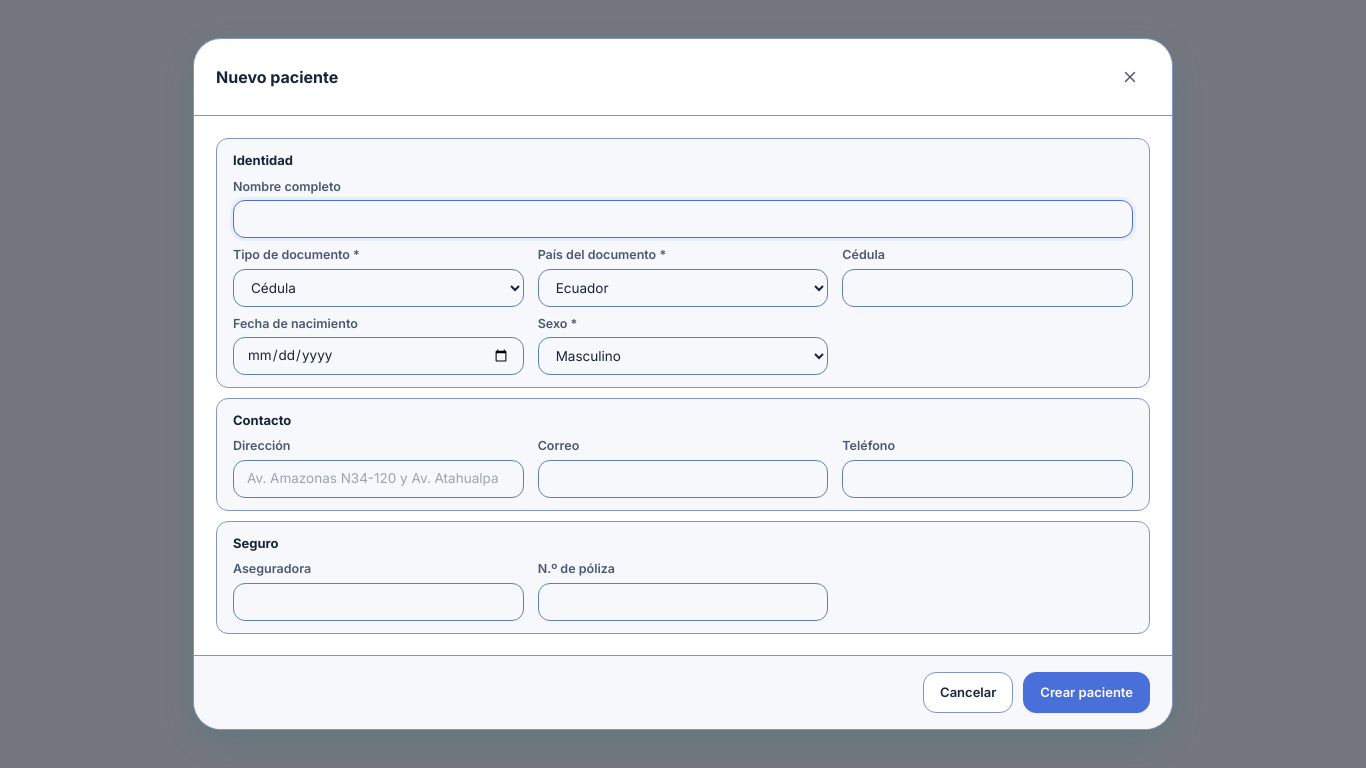
Scenario: NewPatientModal — never looks frozen › explains a timeout instead of staying on «Guardando…»
Type "Ana Torres" into the field labelled "Nombre completo".
click(683, 219); type("Ana Torres")  # box [233, 200, 1133, 238]
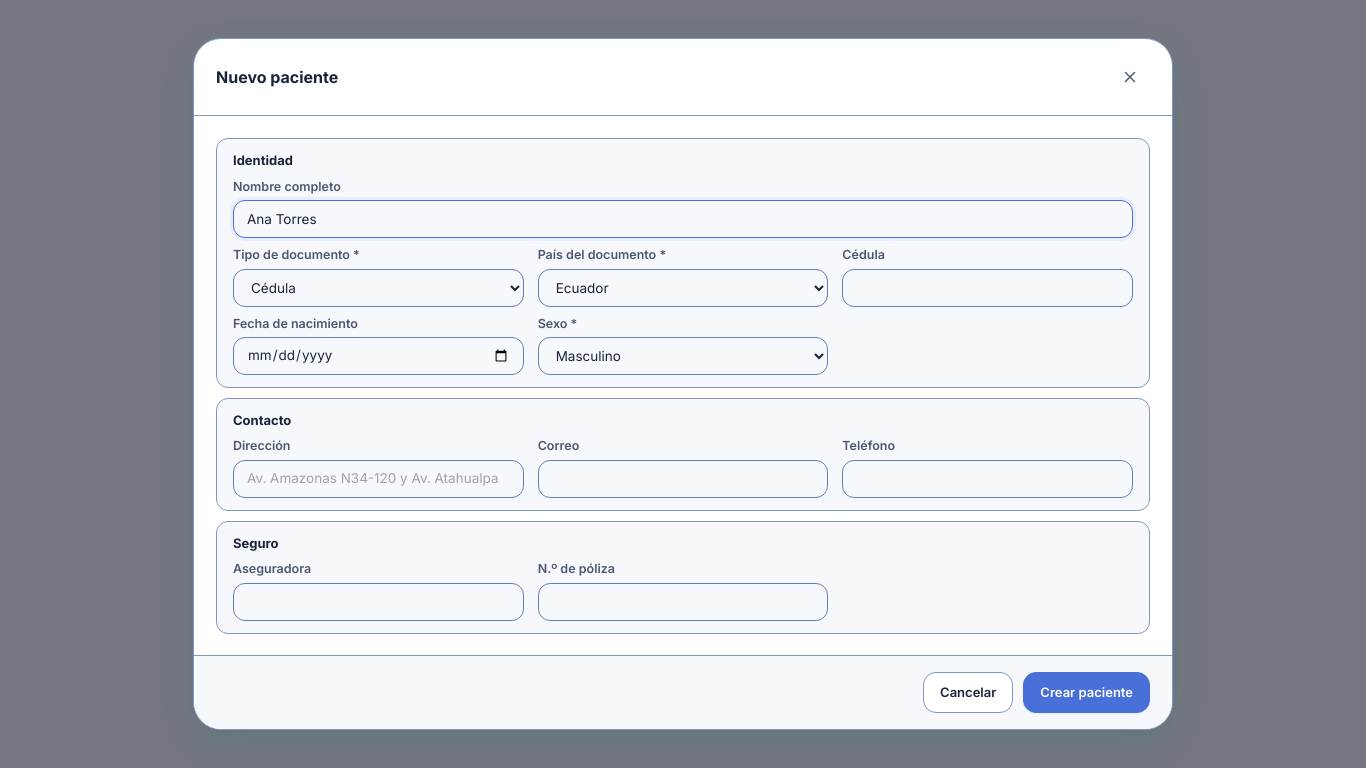
Type "1712345678" into the field labelled "Cédula".
click(988, 288); type("1712345678")  # box [842, 268, 1133, 306]
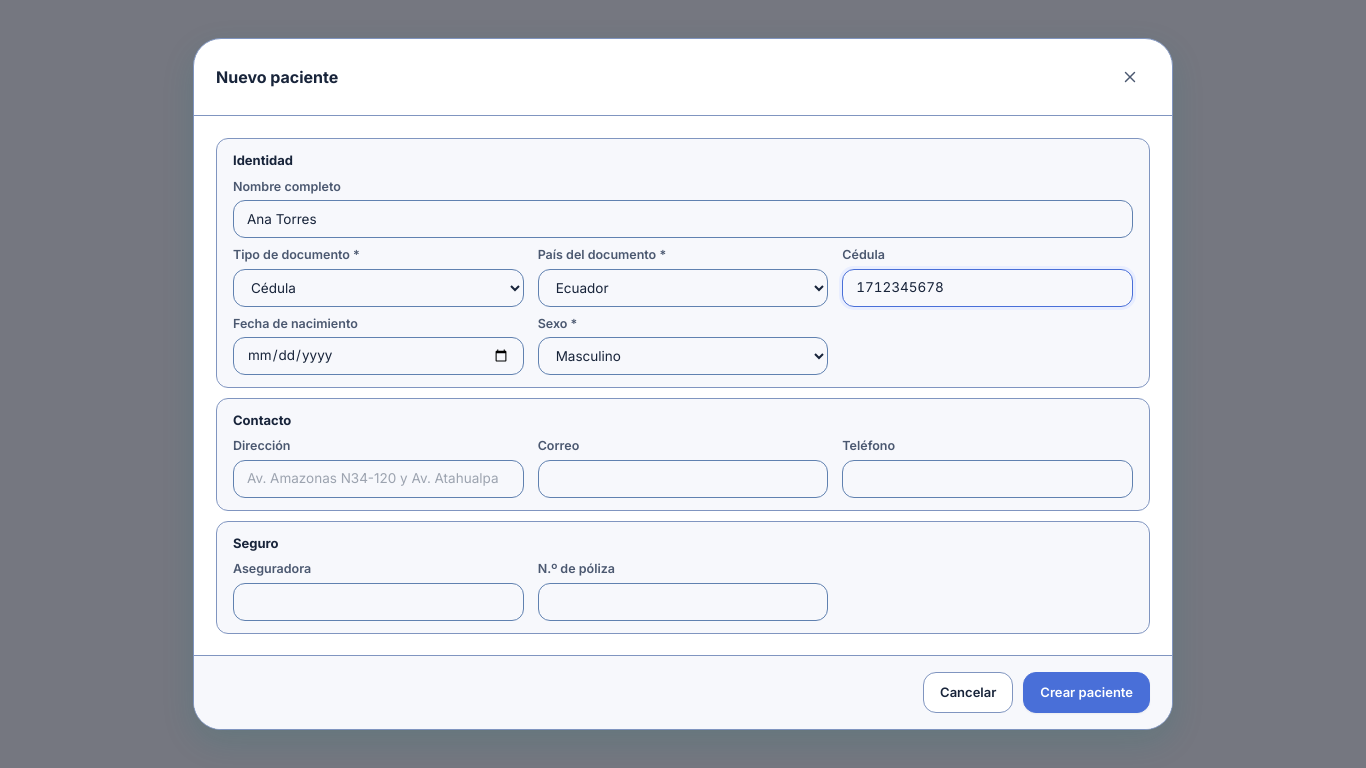
Type "1990-05-11" into the date field labelled "Fecha de nacimiento".
click(378, 356); type("1990-05-11")  # box [233, 337, 524, 375]
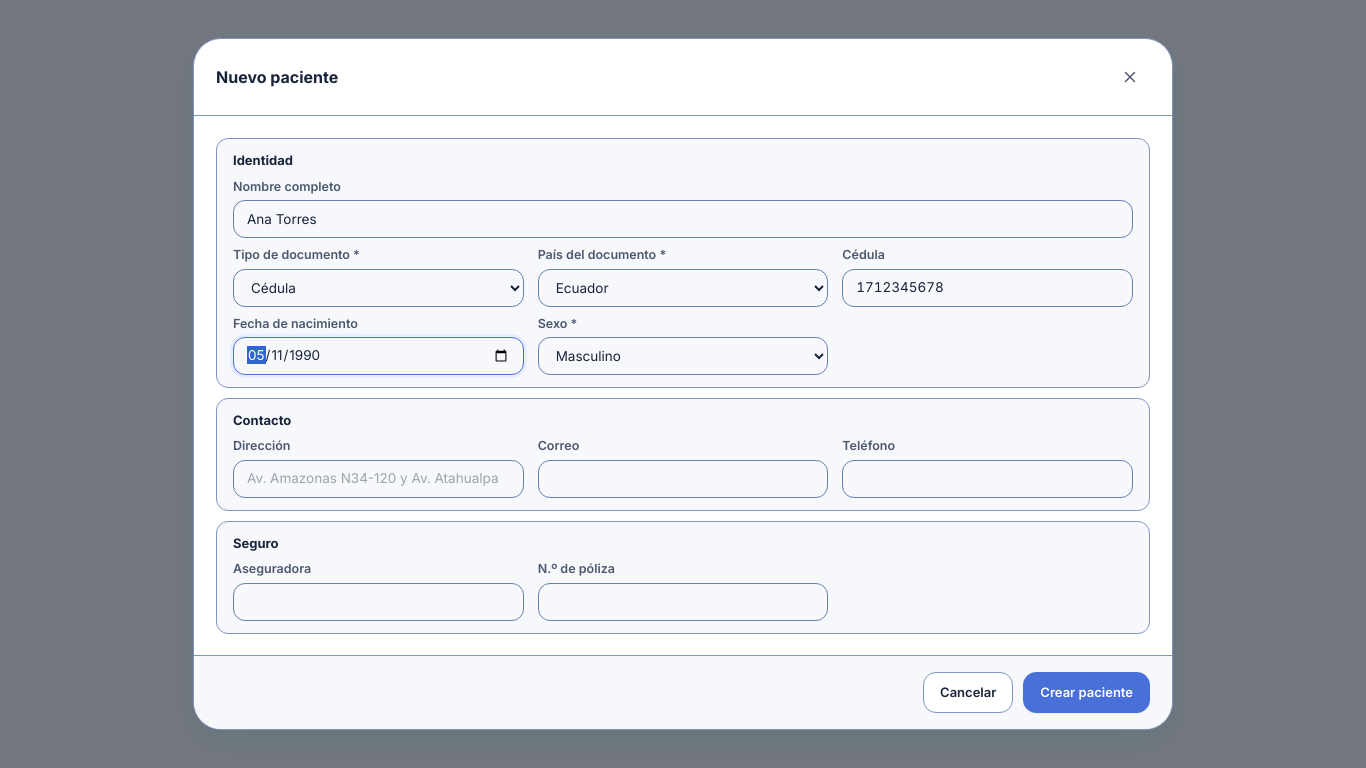
Type "Av. Amazonas" into the field labelled "Dirección".
click(378, 479); type("Av. Amazonas")  # box [233, 460, 524, 498]
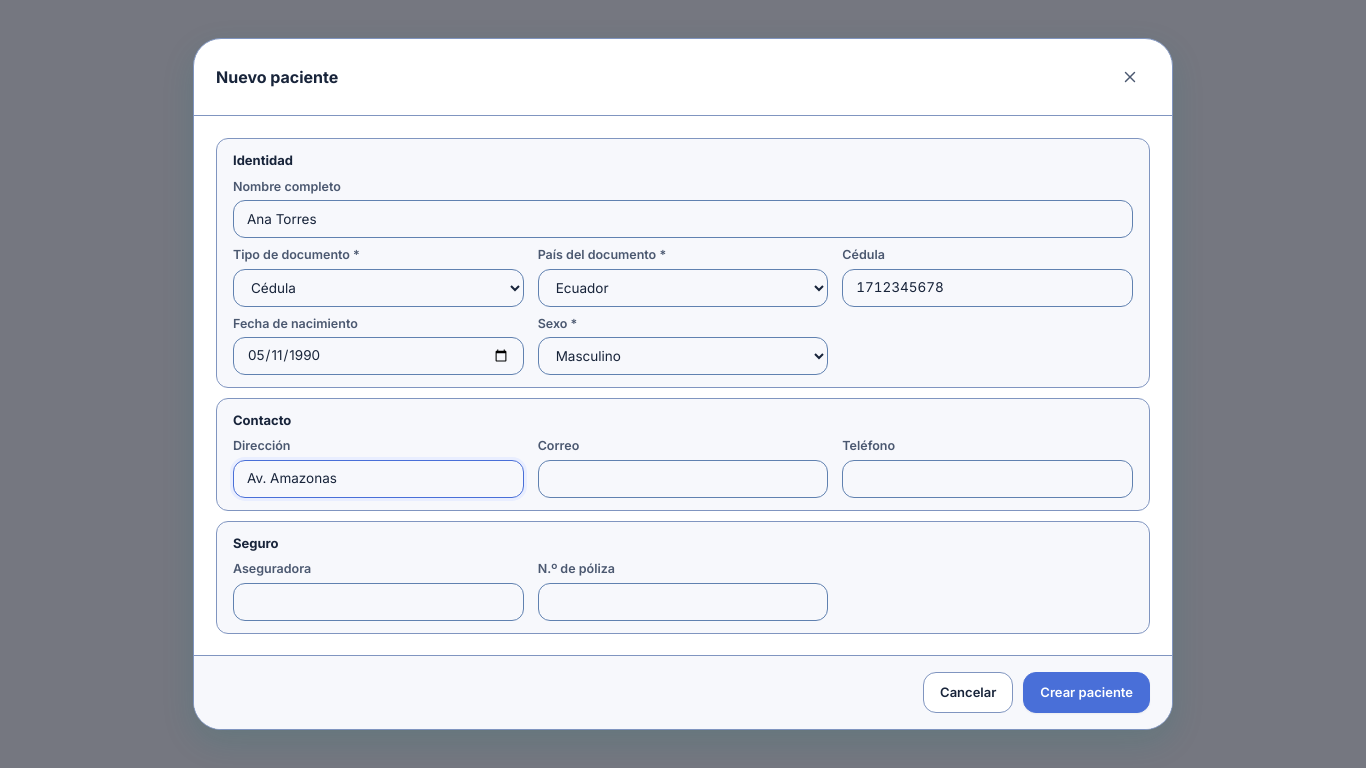
Type "0991234567" into the field labelled "Teléfono".
click(988, 479); type("0991234567")  # box [842, 460, 1133, 498]
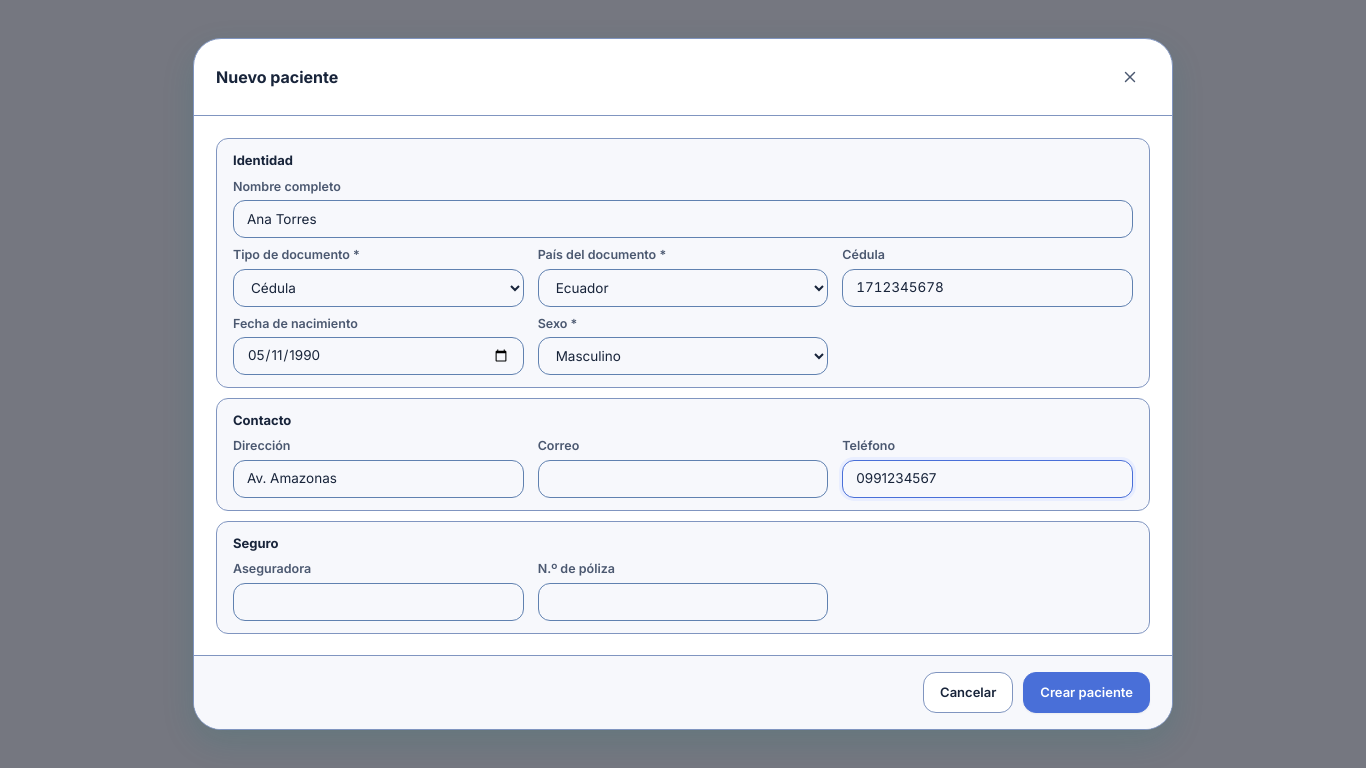
Click the button "Crear paciente".
click(1087, 692)  # box [1023, 672, 1150, 713]
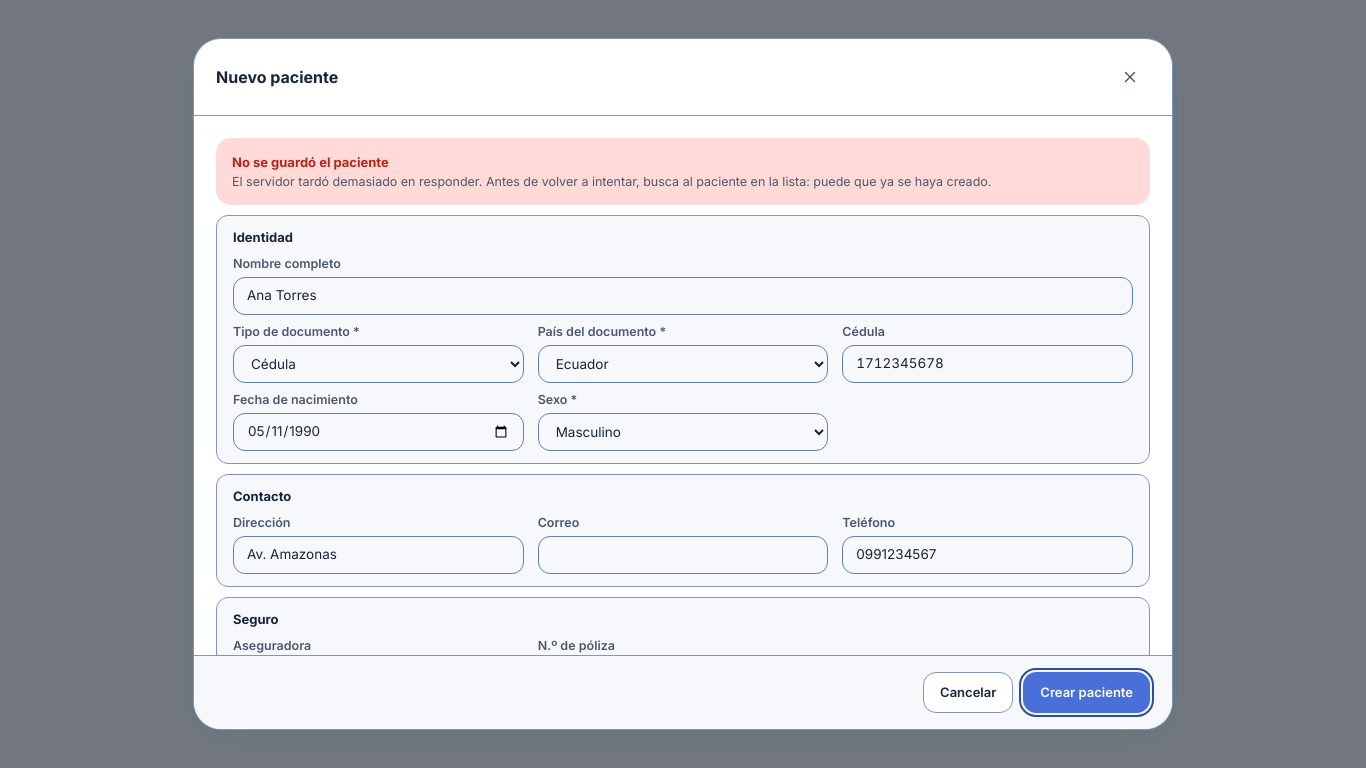
Expected: the text "tardó demasiado en responder" is shown, [232, 174, 991, 189]
